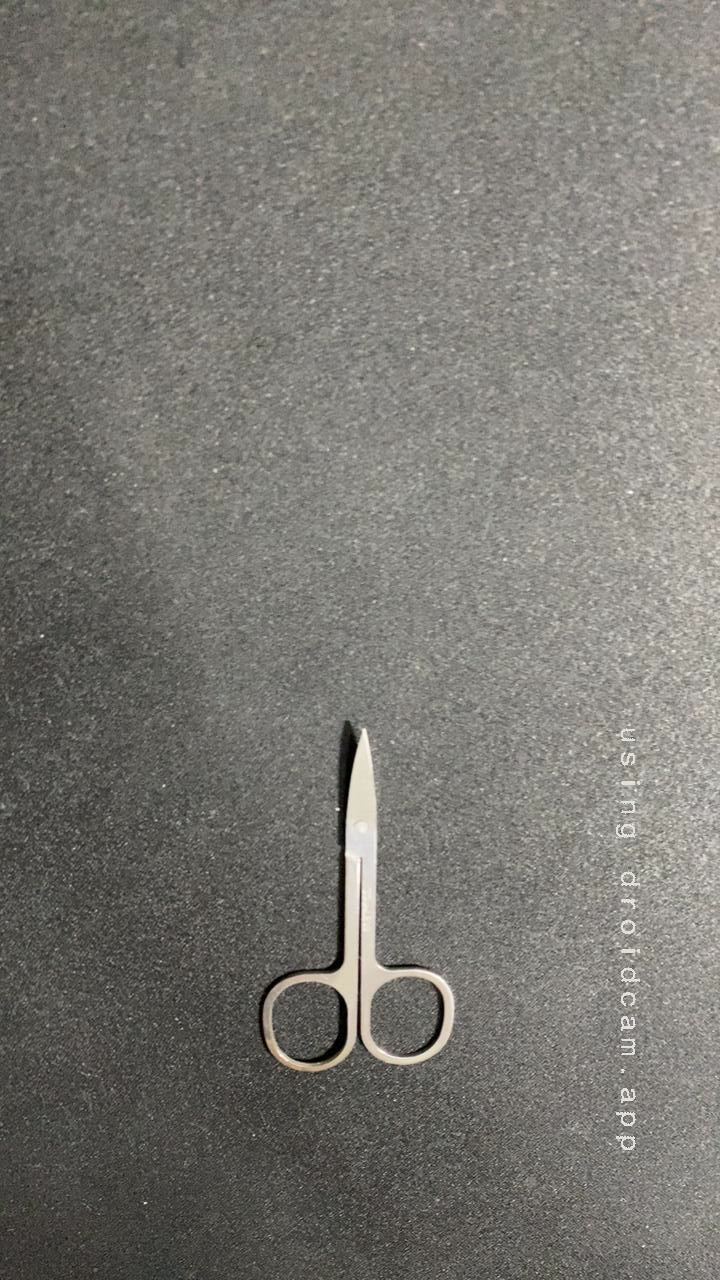scissor: (226, 711, 473, 1079)
